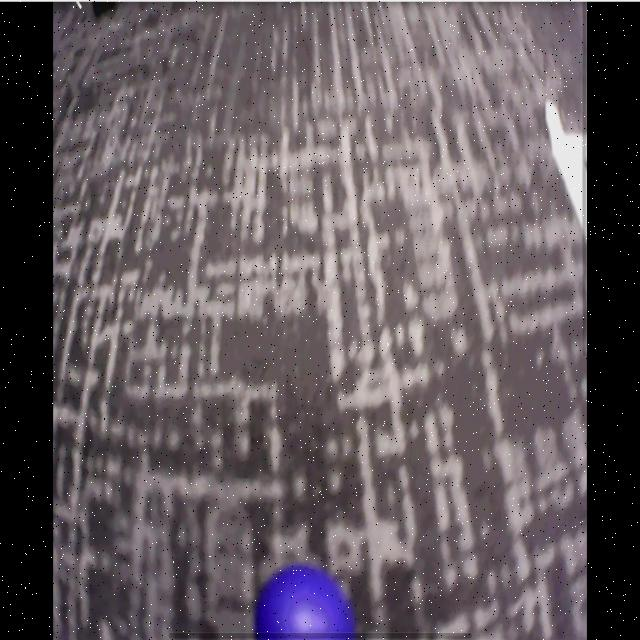ball: (254, 563, 350, 638)
